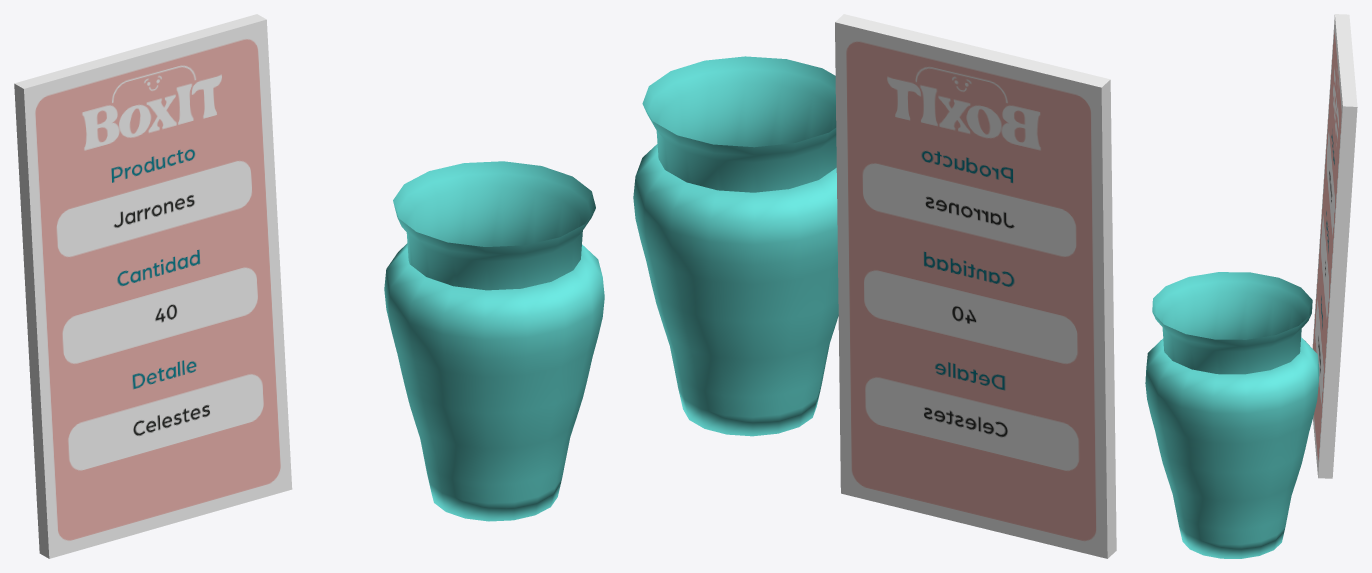
The model's file is asset.glb.
3 renders of one model, left to right at view 1: azimuth 30°, elevation 25°; view 2: azimuth 150°, elevation 25°; view 3: azimuth 270°, elevation 25°, orthographic. The views are drawn at different scales.
Parts seen in each view (by area): view 1: logos-47, Cylinder; view 2: logos-47, Cylinder; view 3: Cylinder, logos-47.
Part boxes in pixels (x1,y1,x2,y2): logos-47: [14, 14, 292, 558]; Cylinder: [384, 161, 604, 521]; logos-47: [835, 14, 1116, 558]; Cylinder: [633, 56, 838, 436]; Cylinder: [1145, 272, 1319, 558]; logos-47: [1312, 14, 1357, 478].
Size of the model in its own units: 6.51 by 5.8 by 2.99.
2 materials, 1 textured.
